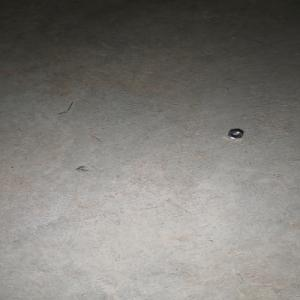Nut: (226, 128, 243, 139)
